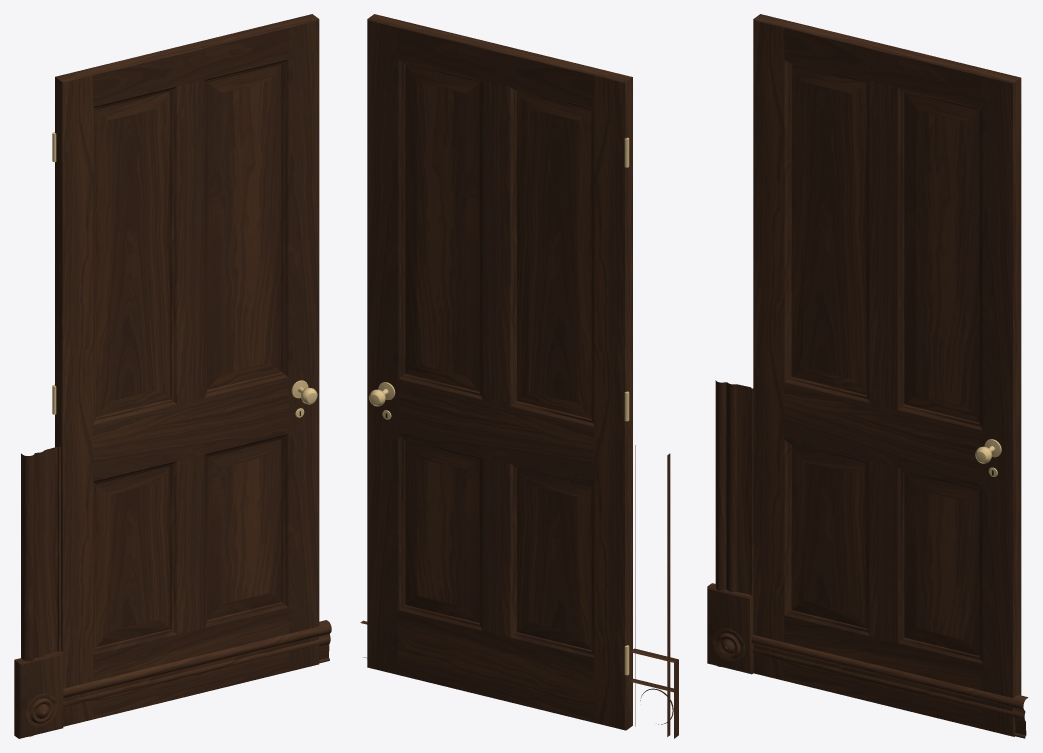
Rendered from door_kit_victorian.glb.
3 renders of one model, left to right at view 1: azimuth 30°, elevation 25°; view 2: azimuth 150°, elevation 25°; view 3: azimuth 330°, elevation 25°, orthographic.
Parts seen in each view (by area): view 1: DoorLeaf_4Panel, Architrave_Leg, Architrave_Head, Architrave_Plinth, Architrave_CornerBlock, DoorLeaf_Hardware; view 2: DoorLeaf_4Panel, Architrave_Leg, DoorLeaf_Hardware, Architrave_Plinth; view 3: DoorLeaf_4Panel, Architrave_Leg, Architrave_Head, Architrave_Plinth, Architrave_CornerBlock, DoorLeaf_Hardware.
Boxes of the visible parts, x1=… form: DoorLeaf_4Panel: x1=55, y1=14, x2=319, y2=726; Architrave_Leg: x1=21, y1=446, x2=60, y2=736; Architrave_Head: x1=63, y1=620, x2=331, y2=706; Architrave_Plinth: x1=14, y1=651, x2=63, y2=738; Architrave_CornerBlock: x1=14, y1=691, x2=57, y2=737; DoorLeaf_Hardware: x1=52, y1=132, x2=317, y2=417; DoorLeaf_4Panel: x1=367, y1=14, x2=632, y2=730; Architrave_Leg: x1=635, y1=445, x2=670, y2=736; DoorLeaf_Hardware: x1=369, y1=137, x2=629, y2=675; Architrave_Plinth: x1=630, y1=648, x2=678, y2=738; DoorLeaf_4Panel: x1=753, y1=14, x2=1021, y2=736; Architrave_Leg: x1=715, y1=380, x2=753, y2=666; Architrave_Head: x1=751, y1=634, x2=1028, y2=738; Architrave_Plinth: x1=707, y1=583, x2=753, y2=674; Architrave_CornerBlock: x1=712, y1=627, x2=753, y2=673; DoorLeaf_Hardware: x1=975, y1=439, x2=1001, y2=476.
Size of the model in its own units: 1.17 by 2.3 by 0.216.
Materials: 3 (1 with a texture image).
